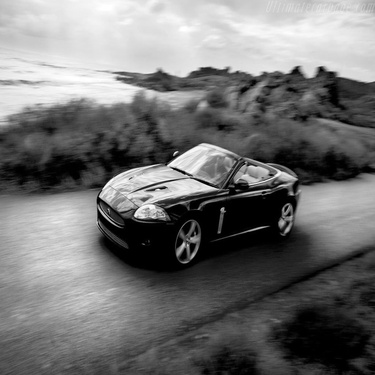car: (85, 134, 303, 271)
